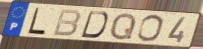4: (166, 16, 186, 43)
B: (51, 8, 82, 37)
D: (79, 10, 110, 40)
L: (26, 7, 47, 37)
O: (136, 14, 165, 43)
Q: (108, 12, 138, 41)
